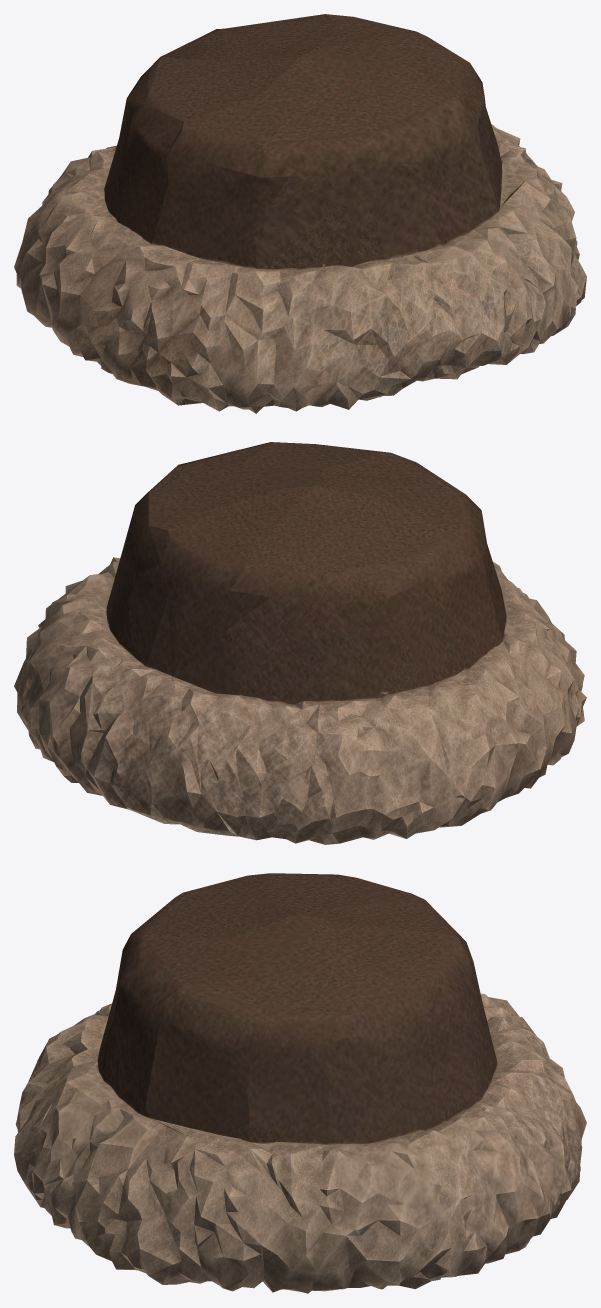
Rendered from hunter.glb.
The picture shows the model from 3 angles, top to bottom: view 1: azimuth 30°, elevation 25°; view 2: azimuth 150°, elevation 25°; view 3: azimuth 270°, elevation 25°; orthographic projection. The views are drawn at different scales.
Parts seen in each view (by area): view 1: Module_occupation_hunter_0; view 2: Module_occupation_hunter_0; view 3: Module_occupation_hunter_0.
Boxes of the visible parts, x1,y1,x2,y2 form: Module_occupation_hunter_0: (14,14,586,413); Module_occupation_hunter_0: (14,442,586,844); Module_occupation_hunter_0: (14,873,586,1293).
Bounding box in the file's own units: 0.1845 × 0.0928 × 0.1787.
Materials: 1 (1 with a texture image).
